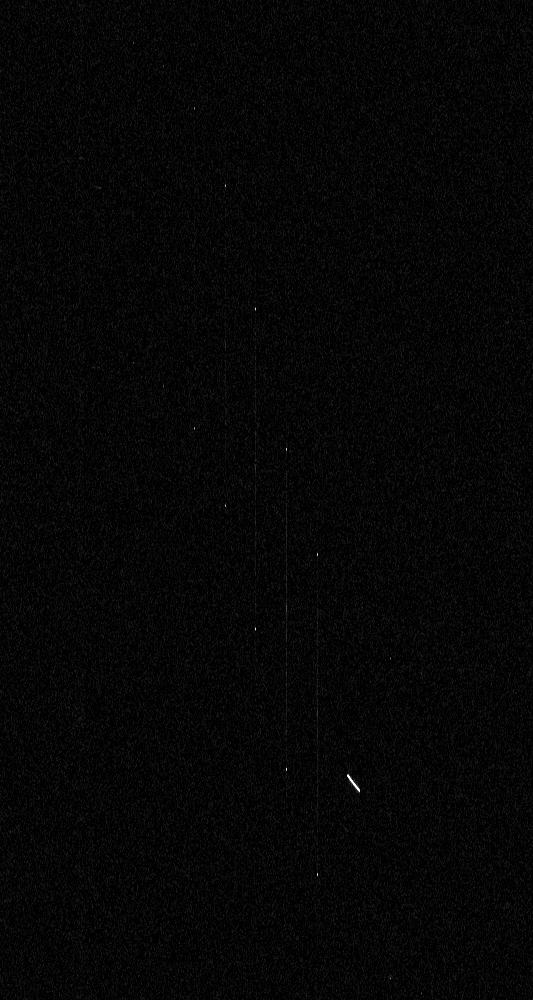signal: (0, 0, 532, 999)
